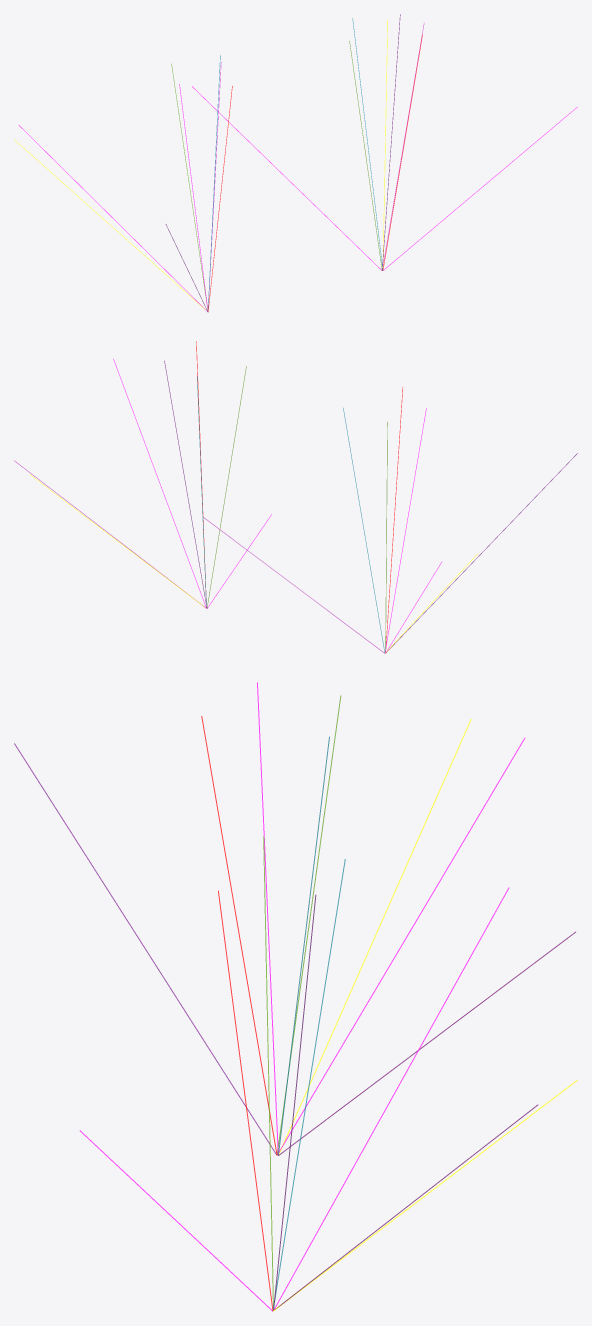
Rendered from SADECE_ISIKLAR_STD.fbx.
3 renders of one model, top to bottom at view 1: azimuth 30°, elevation 25°; view 2: azimuth 150°, elevation 25°; view 3: azimuth 270°, elevation 25°, orthographic. The views are drawn at different scales.
Parts seen in each view (by area): view 1: no part large enough to name; view 2: no part large enough to name; view 3: Cylinder011, Cylinder007.
Boxes of the visible parts, x1=… form: Cylinder011: x1=257, y1=682, x2=278, y2=1154; Cylinder007: x1=263, y1=836, x2=273, y2=1306.
Bounding box in the file's own units: 5275 × 2655 × 3063.
